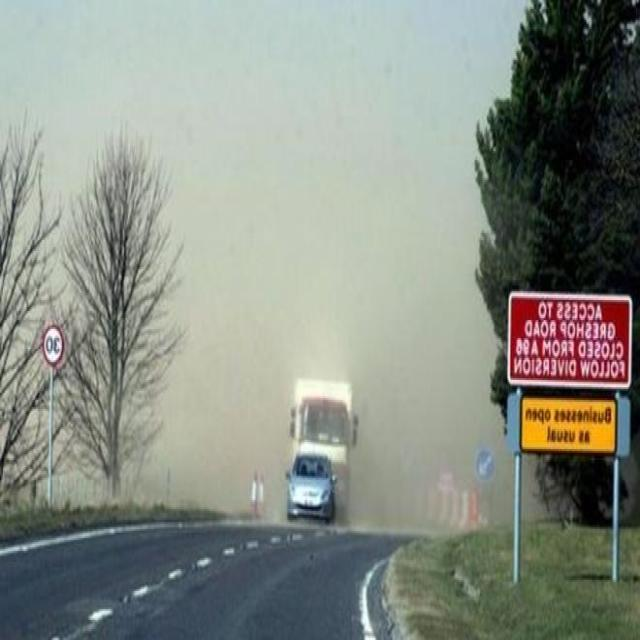Car: (286, 445, 338, 522)
Truck: (276, 359, 358, 543)
